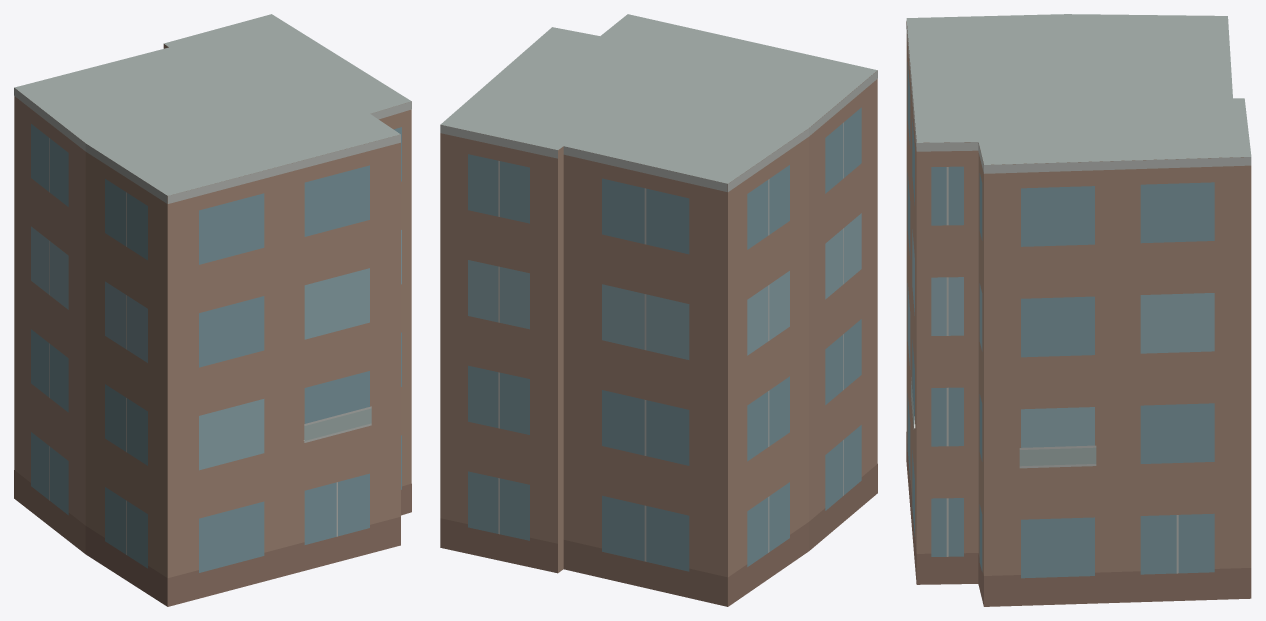
File: survey-upis-32634942.glb
3 views of the same model, side by side, from view 1: azimuth 30°, elevation 25°; view 2: azimuth 150°, elevation 25°; view 3: azimuth 270°, elevation 25° (orthographic). The views are drawn at different scales.
Parts seen in each view (by area): view 1: survey-upis-32634942.tmp; view 2: survey-upis-32634942.tmp; view 3: survey-upis-32634942.tmp.
Part boxes in pixels (x1,y1,x2,y2): survey-upis-32634942.tmp: (14,14,411,606); survey-upis-32634942.tmp: (440,14,877,606); survey-upis-32634942.tmp: (906,14,1251,606).
Bounding box in the file's own units: 8.95 × 12.2 × 8.64.
